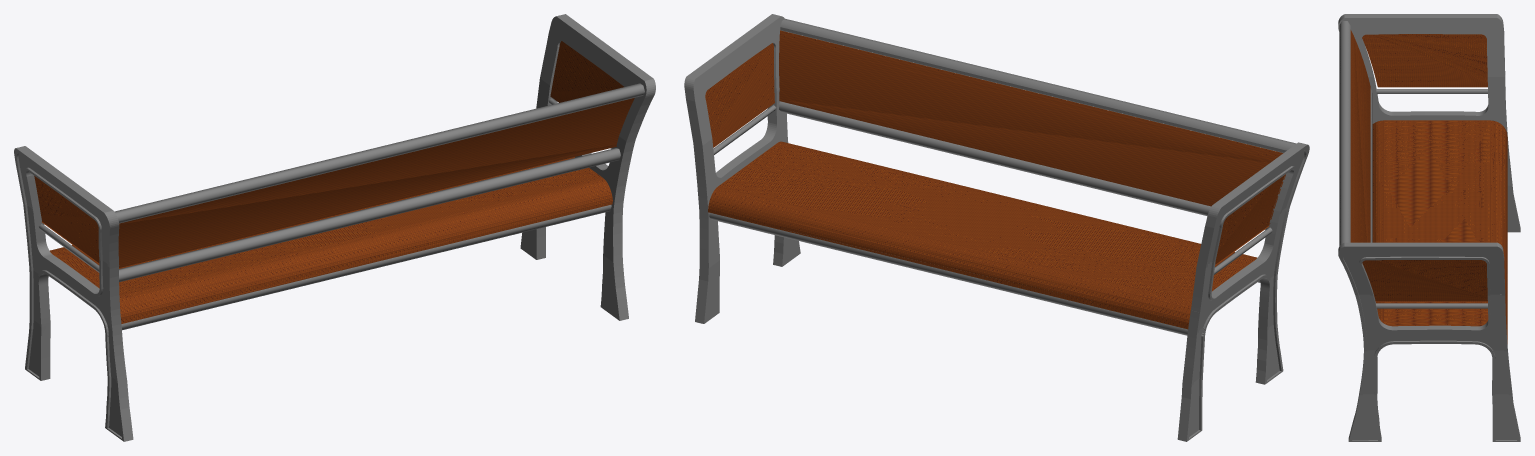
3 renders of one model, left to right at view 1: azimuth 30°, elevation 25°; view 2: azimuth 150°, elevation 25°; view 3: azimuth 270°, elevation 25°, orthographic. The views are drawn at different scales.
Parts seen in each view (by area): view 1: mesh24_mesh24-geometry, mesh1_mesh1-geometry, mesh307_mesh307-geometry, mesh317_mesh317-geometry, mesh331_mesh331-geometry, mesh327_mesh327-geometry, mesh305_mesh305-geometry, mesh196_mesh196-geometry, mesh86_mesh86-geometry; view 2: mesh1_mesh1-geometry, mesh24_mesh24-geometry, mesh307_mesh307-geometry, mesh317_mesh317-geometry, mesh331_mesh331-geometry, mesh327_mesh327-geometry, mesh86_mesh86-geometry, mesh305_mesh305-geometry, mesh196_mesh196-geometry, mesh2_mesh2-geometry, mesh329_mesh329-geometry; view 3: mesh1_mesh1-geometry, mesh317_mesh317-geometry, mesh307_mesh307-geometry, mesh196_mesh196-geometry, mesh86_mesh86-geometry, mesh24_mesh24-geometry, mesh331_mesh331-geometry, mesh329_mesh329-geometry, mesh327_mesh327-geometry, mesh2_mesh2-geometry.
Boxes of the visible parts, x1,y1,x2,y2 form: mesh24_mesh24-geometry: (118, 98, 634, 267); mesh1_mesh1-geometry: (50, 157, 612, 323); mesh307_mesh307-geometry: (14, 146, 133, 441); mesh317_mesh317-geometry: (520, 14, 655, 320); mesh331_mesh331-geometry: (114, 83, 644, 223); mesh327_mesh327-geometry: (119, 148, 620, 282); mesh305_mesh305-geometry: (121, 205, 611, 330); mesh196_mesh196-geometry: (34, 176, 99, 263); mesh86_mesh86-geometry: (550, 41, 623, 102); mesh1_mesh1-geometry: (708, 141, 1256, 323); mesh24_mesh24-geometry: (779, 30, 1283, 206); mesh307_mesh307-geometry: (1177, 142, 1309, 441); mesh317_mesh317-geometry: (684, 14, 800, 323); mesh331_mesh331-geometry: (780, 18, 1296, 152); mesh327_mesh327-geometry: (779, 101, 1267, 230); mesh86_mesh86-geometry: (705, 43, 774, 147); mesh305_mesh305-geometry: (709, 213, 1260, 335); mesh196_mesh196-geometry: (1215, 175, 1284, 265); mesh2_mesh2-geometry: (709, 212, 1188, 329); mesh329_mesh329-geometry: (713, 105, 1272, 274); mesh1_mesh1-geometry: (1372, 120, 1507, 343); mesh317_mesh317-geometry: (1338, 242, 1520, 441); mesh307_mesh307-geometry: (1338, 14, 1520, 232); mesh196_mesh196-geometry: (1362, 34, 1487, 87); mesh86_mesh86-geometry: (1362, 260, 1487, 301); mesh24_mesh24-geometry: (1350, 30, 1370, 242); mesh331_mesh331-geometry: (1339, 21, 1350, 245); mesh329_mesh329-geometry: (1376, 89, 1487, 308); mesh327_mesh327-geometry: (1370, 89, 1372, 242); mesh2_mesh2-geometry: (1506, 132, 1507, 314).
Bounding box in the file's own units: 0.8842 × 0.3635 × 0.2933.
